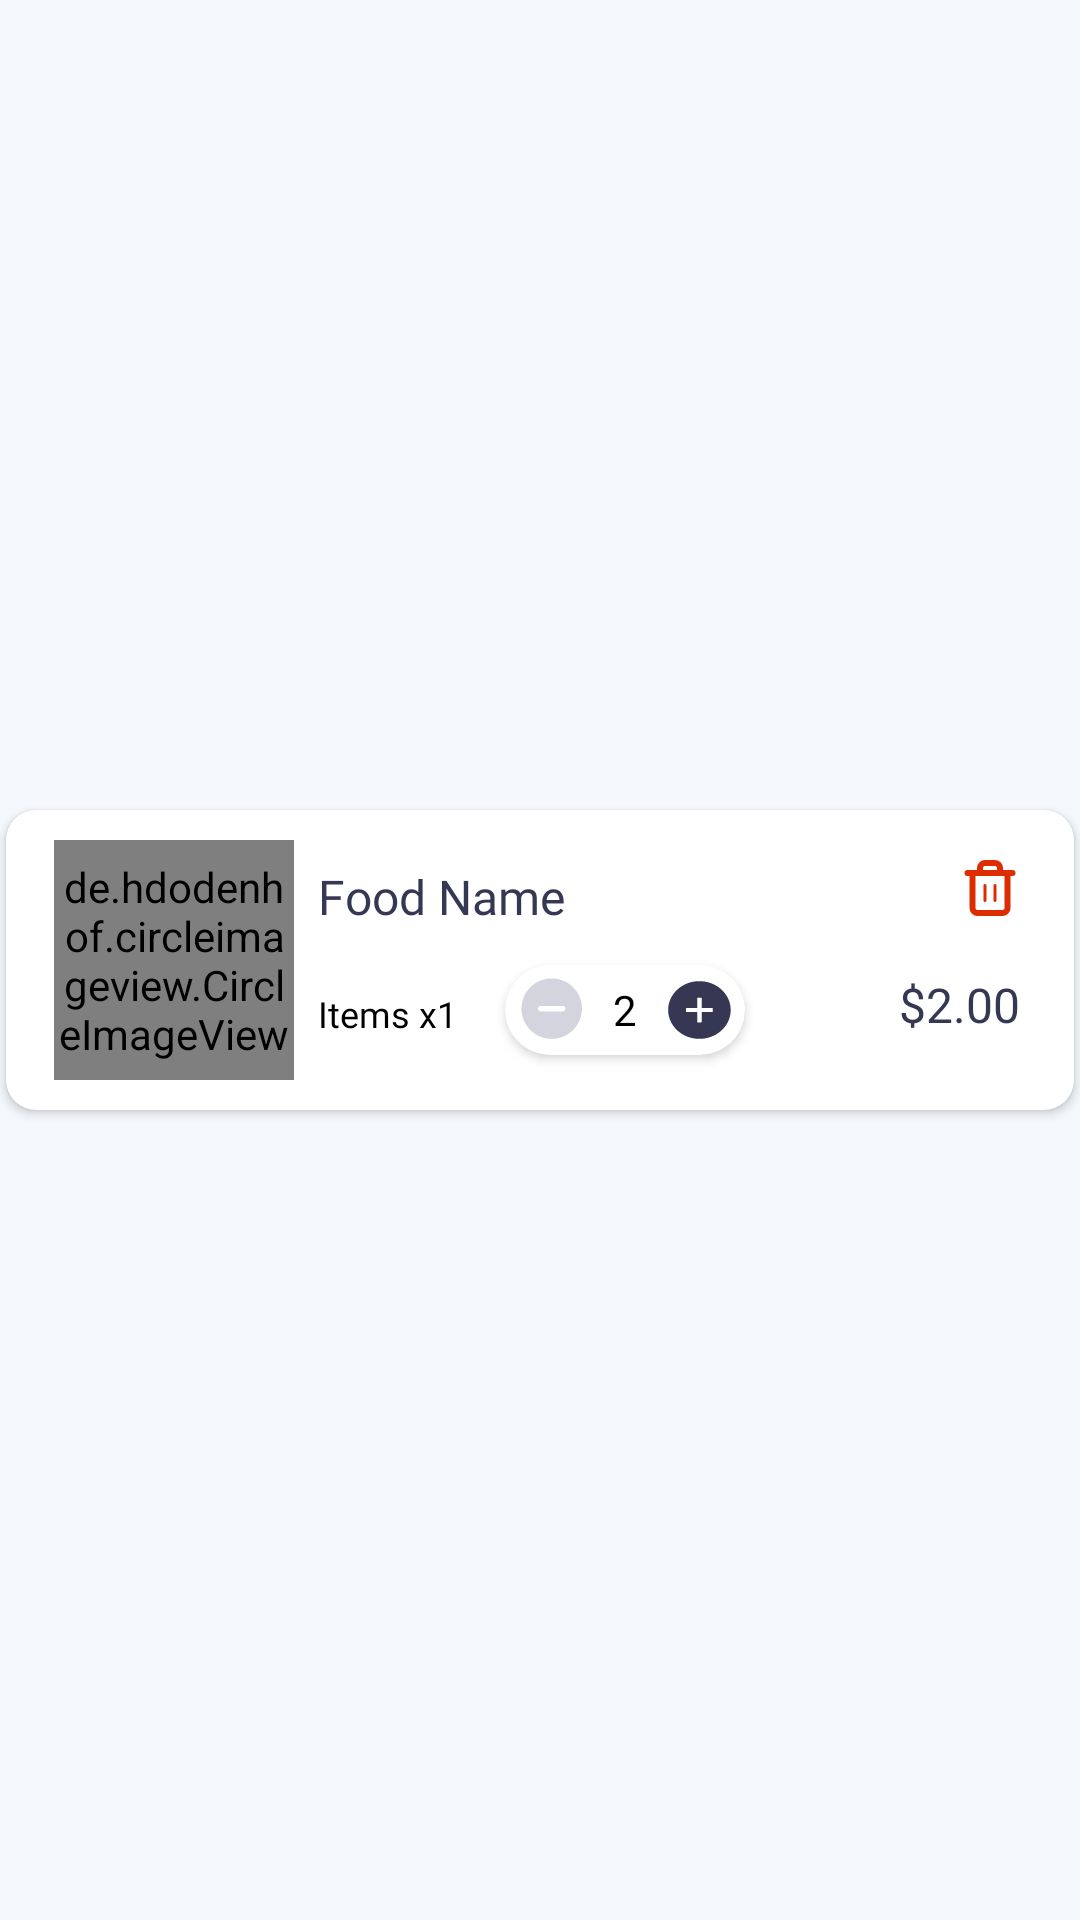

Where icons sit on this 1080x1920 app screen, as bbox=[x1, y1, x2, y2]:
trash: bbox=[964, 860, 1016, 916]
